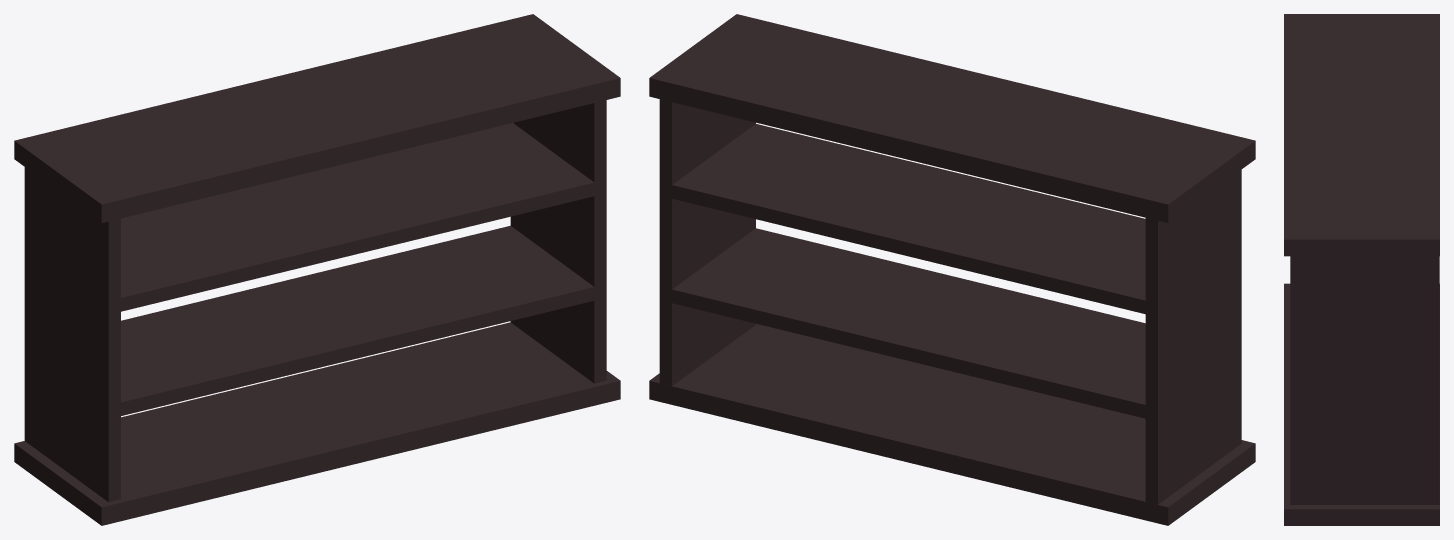
File: Prop_WallShelf_03.fbx
3 views of the same model, side by side, from view 1: azimuth 30°, elevation 25°; view 2: azimuth 150°, elevation 25°; view 3: azimuth 270°, elevation 25° (orthographic). The views are drawn at different scales.
Parts seen in each view (by area): view 1: Prop_WallShelf_03; view 2: Prop_WallShelf_03; view 3: Prop_WallShelf_03.
Part boxes in pixels (x1,y1,x2,y2): Prop_WallShelf_03: (14, 14, 620, 525); Prop_WallShelf_03: (649, 14, 1255, 525); Prop_WallShelf_03: (1284, 14, 1439, 525).
Bounding box in the file's own units: 69.37 × 41.05 × 20.25.
